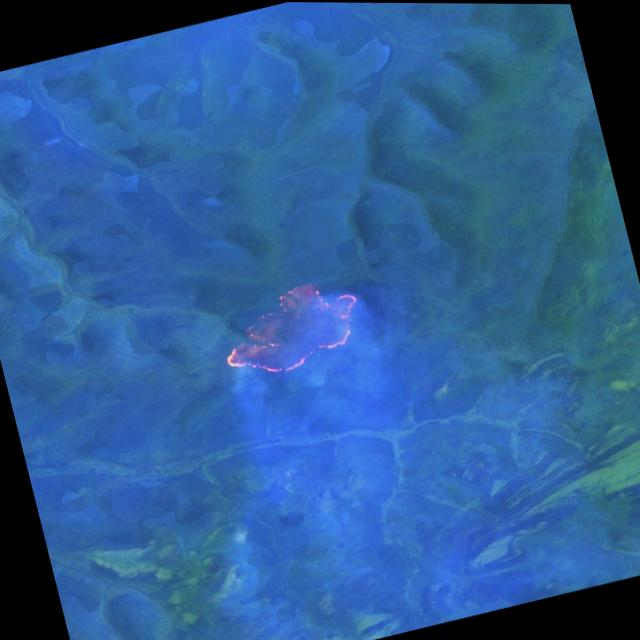fire: (205, 266, 373, 387)
